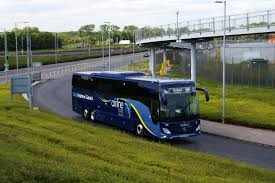bus: (71, 69, 210, 144)
